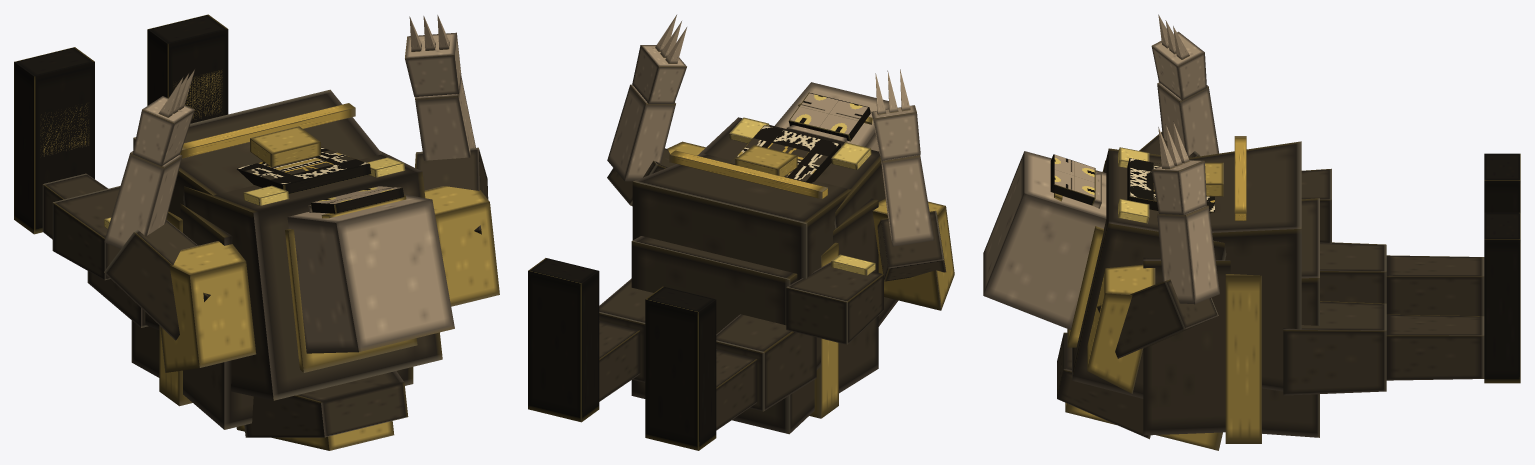
Rendered from margor_warning.obj.
3 renders of one model, left to right at view 1: azimuth 30°, elevation 25°; view 2: azimuth 150°, elevation 25°; view 3: azimuth 270°, elevation 25°, orthographic. The views are drawn at different scales.
Visible parts, largest first — view 1: margor_warning; view 2: margor_warning; view 3: margor_warning.
Boxes of the visible parts, <box> form: margor_warning: <box>14,14,499,450</box>; margor_warning: <box>528,15,954,450</box>; margor_warning: <box>983,14,1520,450</box>.
Bounding box in the file's own units: 0.7527 × 0.7484 × 1.
Materials: 1 (1 with a texture image).
